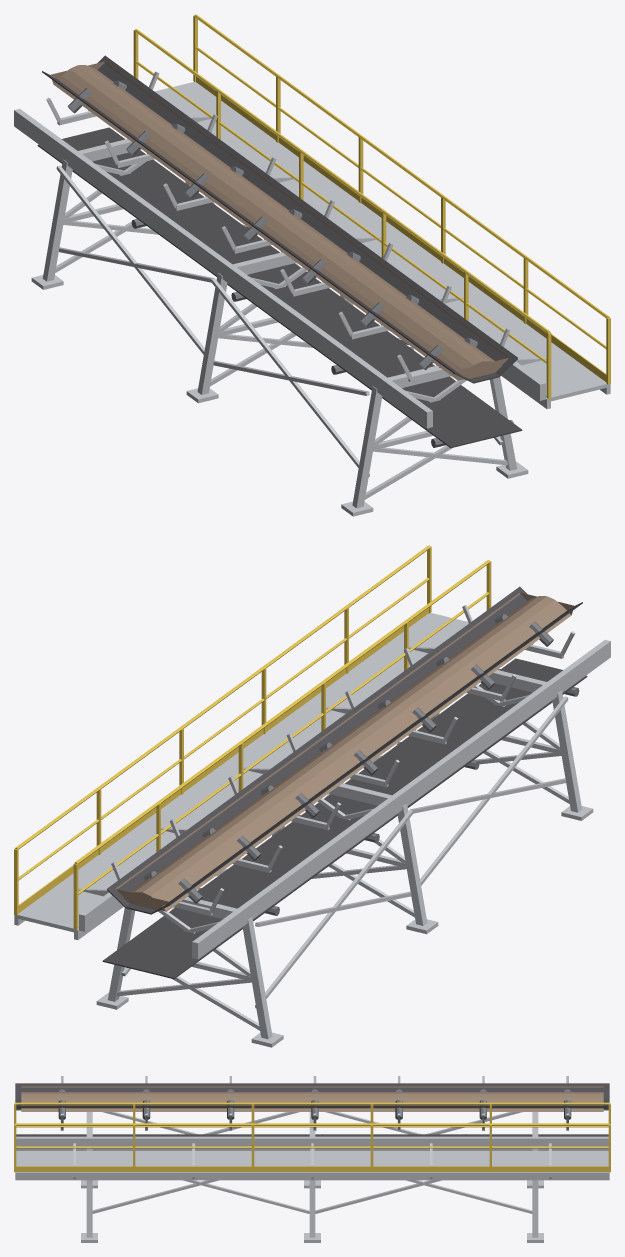
Rendered from ore-processing-and-haulage-plant-conveyor-straight-12m-1c63193a.glb.
3 views of the same model, one above another, from view 1: azimuth 30°, elevation 25°; view 2: azimuth 150°, elevation 25°; view 3: azimuth 270°, elevation 25° (orthographic). The views are drawn at different scales.
Visible parts, largest first — view 1: conveyor-straight-12m; view 2: conveyor-straight-12m; view 3: conveyor-straight-12m.
Boxes of the visible parts, <box> form: conveyor-straight-12m: <box>14,14,610,516</box>; conveyor-straight-12m: <box>14,545,610,1047</box>; conveyor-straight-12m: <box>14,1076,610,1242</box>.
Bounding box in the file's own units: 3.57 × 2.92 × 12.05.
